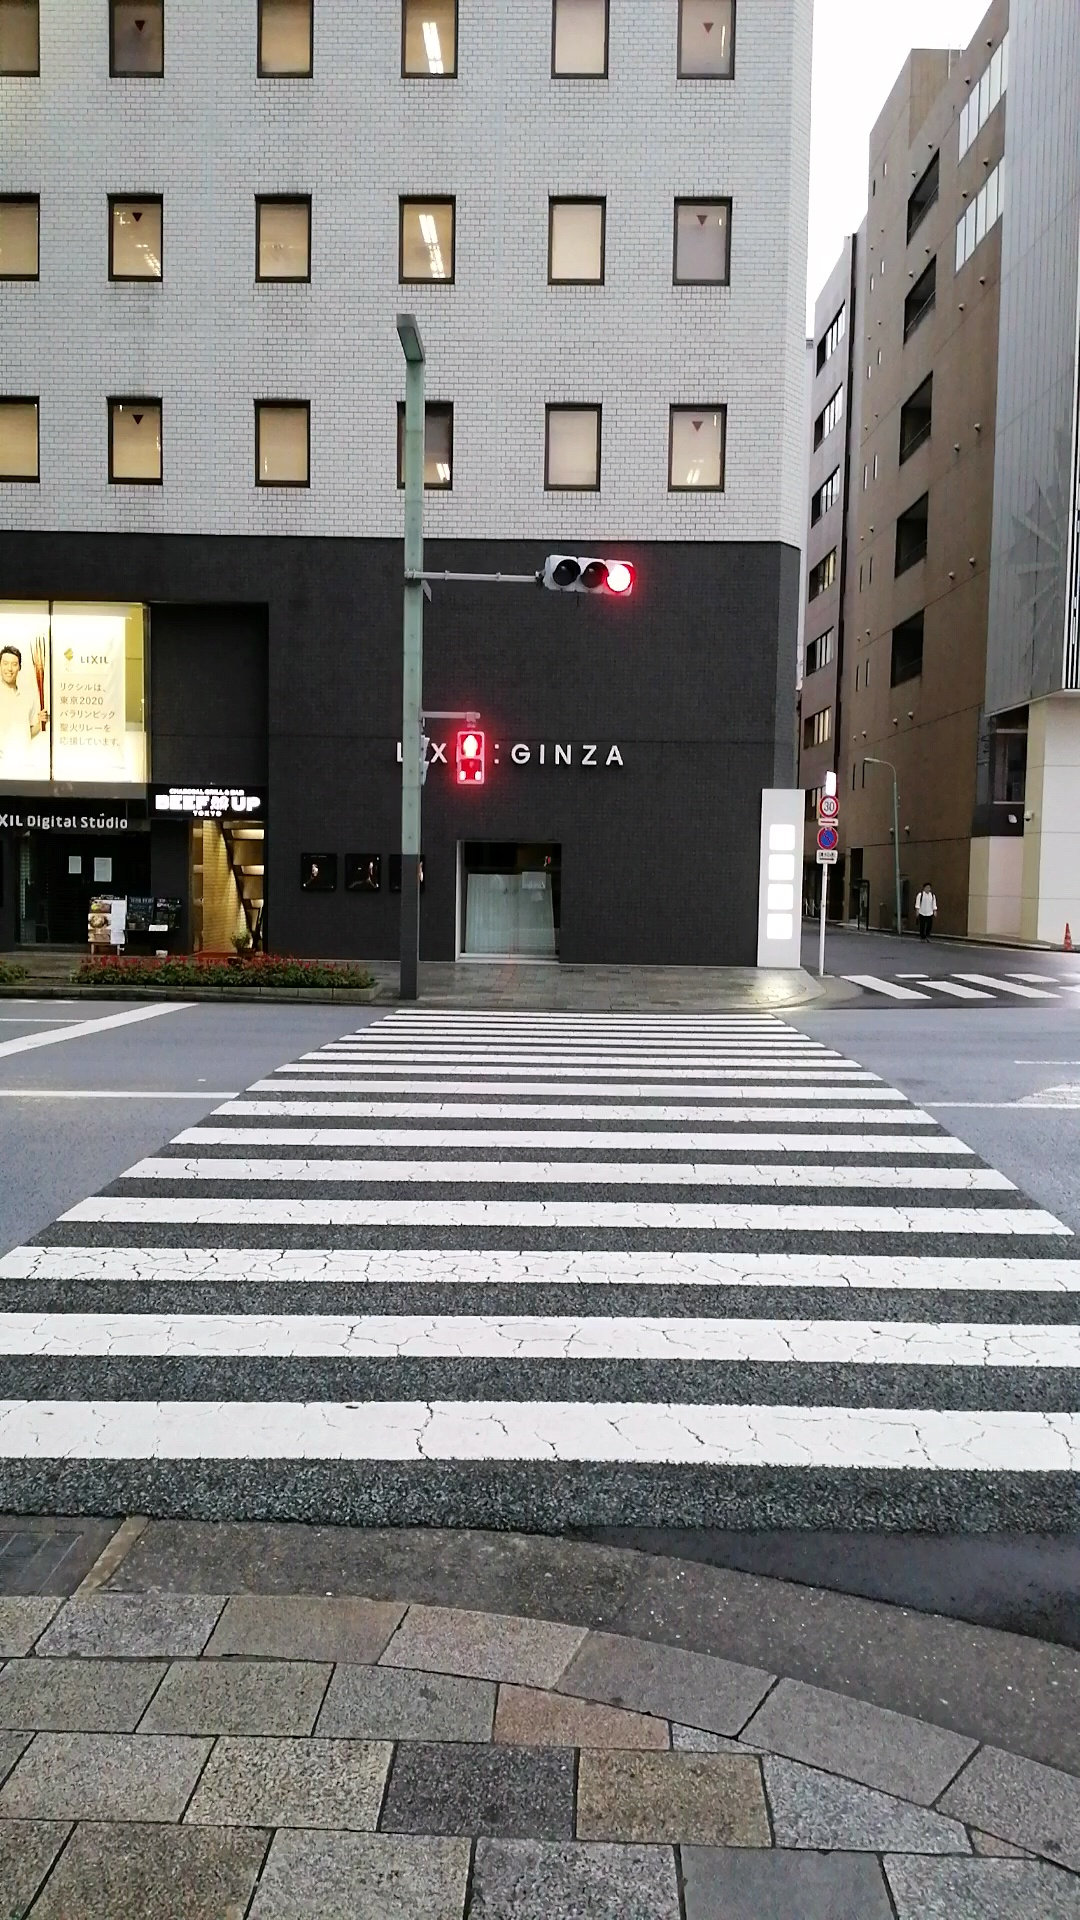red: (452, 727, 487, 787)
